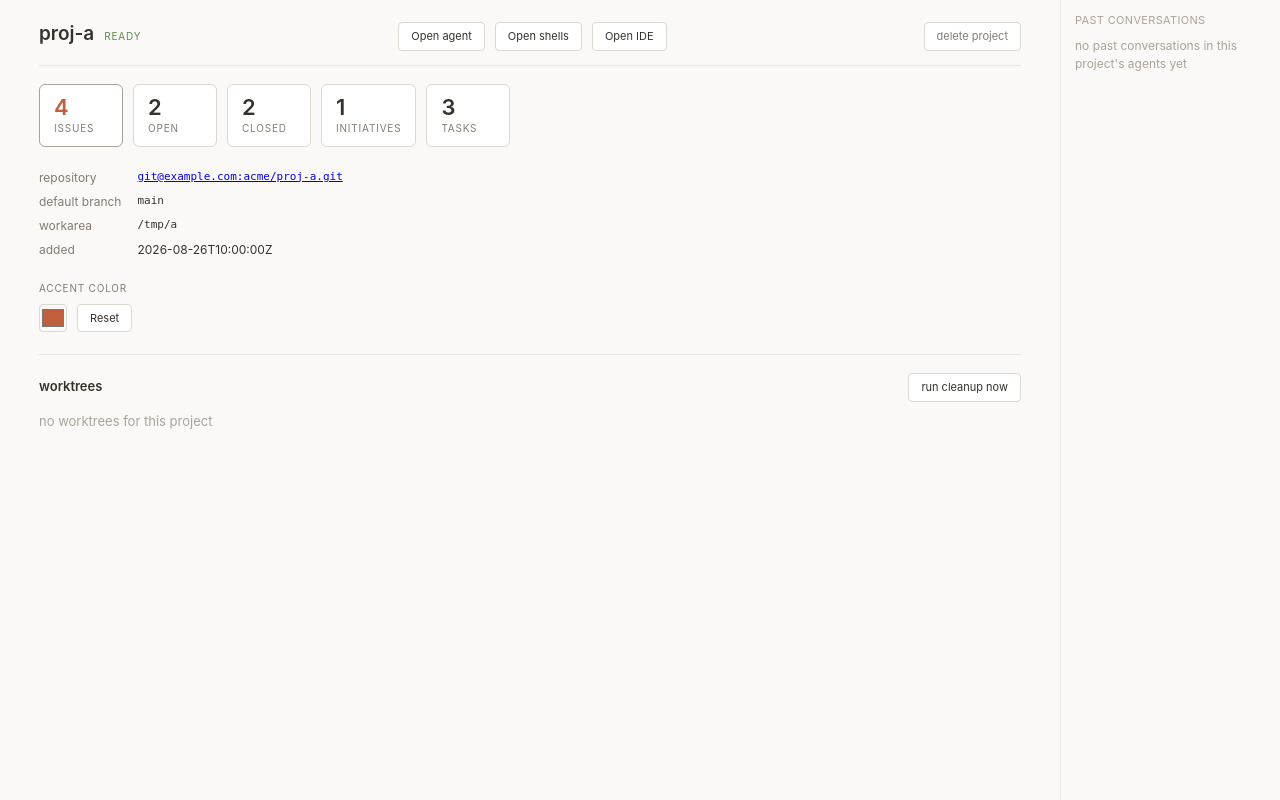
Test: ProjectSummaryComponent › shows an error and re-arms the button when starting an agent session fails
Click the button with class "agent-session-button": (442, 36) [398,22,485,50]
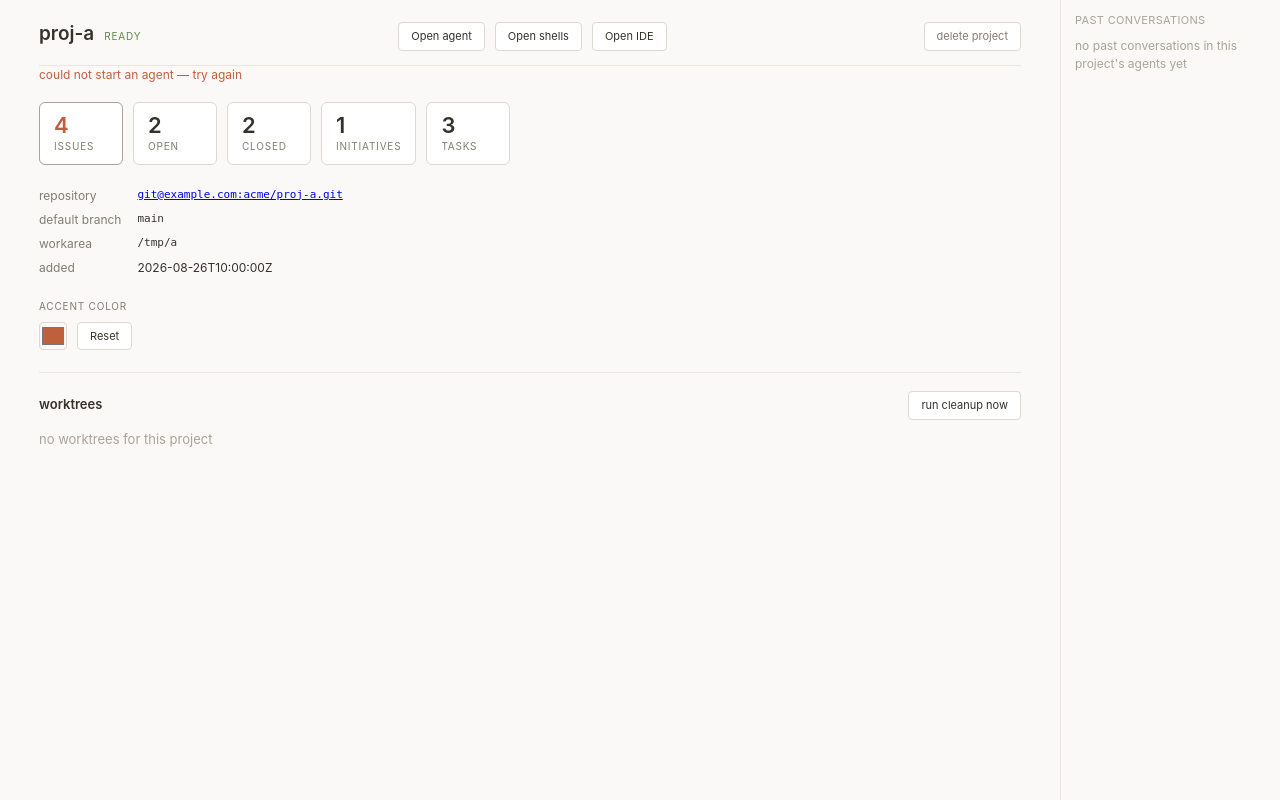
Expected: the text "could not start an agent" is shown, [39,66,242,82]
